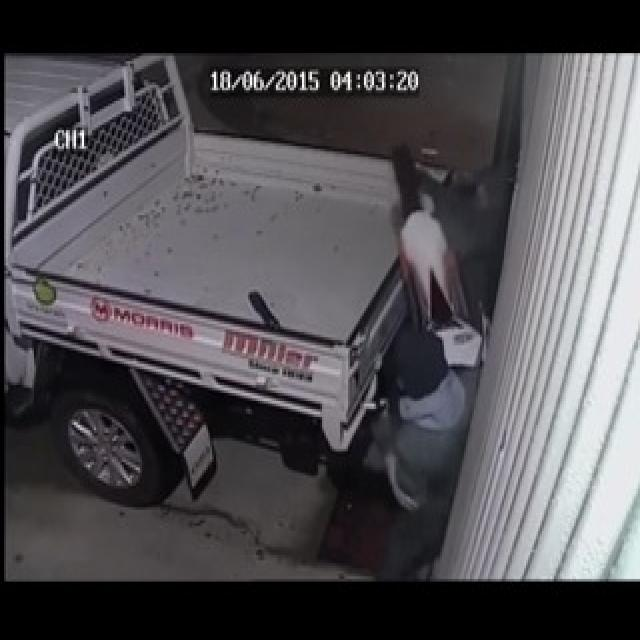thief: (374, 300, 469, 460)
